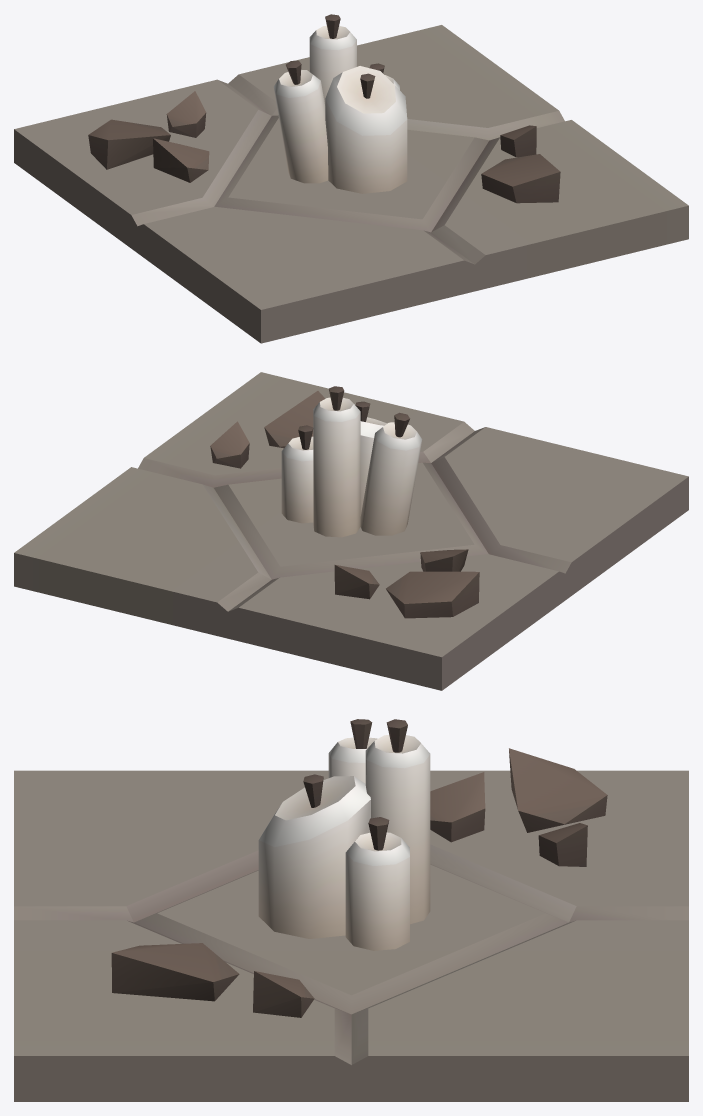
The model's file is b_donjon_sol_dalle_ornee.glb.
3 views of the same model, one above another, from view 1: azimuth 30°, elevation 25°; view 2: azimuth 150°, elevation 25°; view 3: azimuth 270°, elevation 25° (orthographic). The views are drawn at different scales.
Parts seen in each view (by area): view 1: b_donjon_sol_dalle_ornee; view 2: b_donjon_sol_dalle_ornee; view 3: b_donjon_sol_dalle_ornee.
Part boxes in pixels (x1,y1,x2,y2): b_donjon_sol_dalle_ornee: (14, 14, 688, 343); b_donjon_sol_dalle_ornee: (14, 372, 688, 690); b_donjon_sol_dalle_ornee: (14, 719, 688, 1101).
Bounding box in the file's own units: 2 × 0.773 × 2.
1 material, 1 textured.
